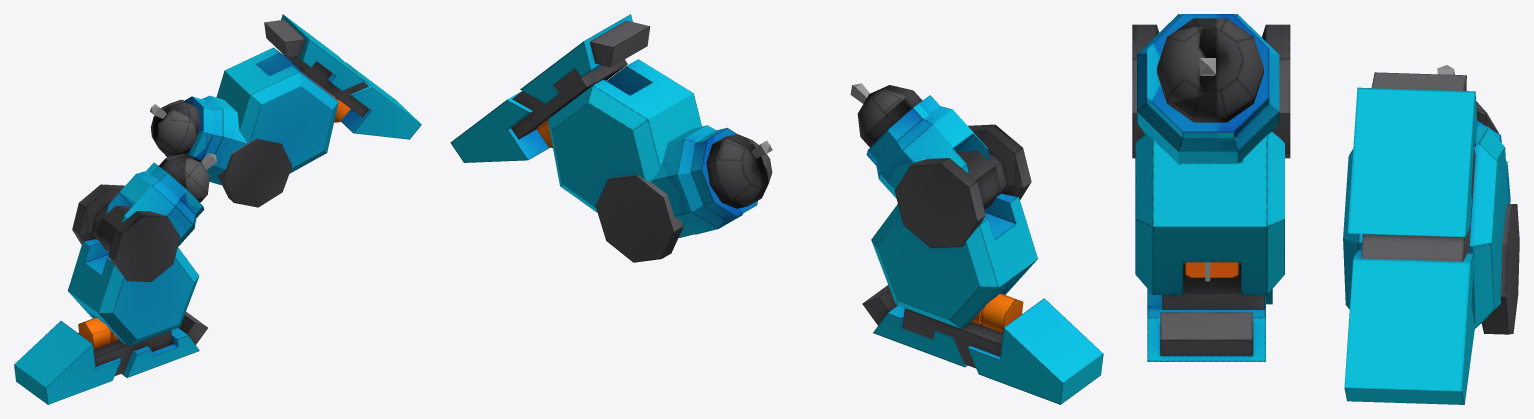
File: Bottom_Running17.obj
3 renders of one model, left to right at view 1: azimuth 30°, elevation 25°; view 2: azimuth 150°, elevation 25°; view 3: azimuth 270°, elevation 25°, orthographic. The views are drawn at different scales.
Visible parts, largest first — view 1: Object013, Object010, Object014, Object011, Object009, Object012; view 2: Object013, Object010, Object014, Object011, Object009, Object012; view 3: Object011, Object013, Object012, Object014, Object010, Object009.
Part boxes in pixels (left/top/right/bottom): Object013: left=68, top=184, right=199, bottom=346; Object010: left=216, top=47, right=338, bottom=207; Object014: left=14, top=311, right=207, bottom=404; Object011: left=264, top=14, right=421, bottom=139; Object009: left=150, top=95, right=247, bottom=185; Object012: left=106, top=153, right=209, bottom=246; Object013: left=871, top=124, right=1037, bottom=328; Object010: left=547, top=59, right=701, bottom=262; Object014: left=862, top=285, right=1103, bottom=404; Object011: left=450, top=14, right=650, bottom=162; Object009: left=651, top=125, right=772, bottom=237; Object012: left=857, top=85, right=990, bottom=198; Object011: left=1344, top=72, right=1477, bottom=404; Object013: left=1132, top=24, right=1290, bottom=294; Object012: left=1137, top=14, right=1279, bottom=164; Object014: left=1147, top=262, right=1272, bottom=361; Object010: left=1343, top=126, right=1519, bottom=334; Object009: left=1476, top=101, right=1510, bottom=203.
Size of the model in its own units: 220 by 121 by 92.51.
